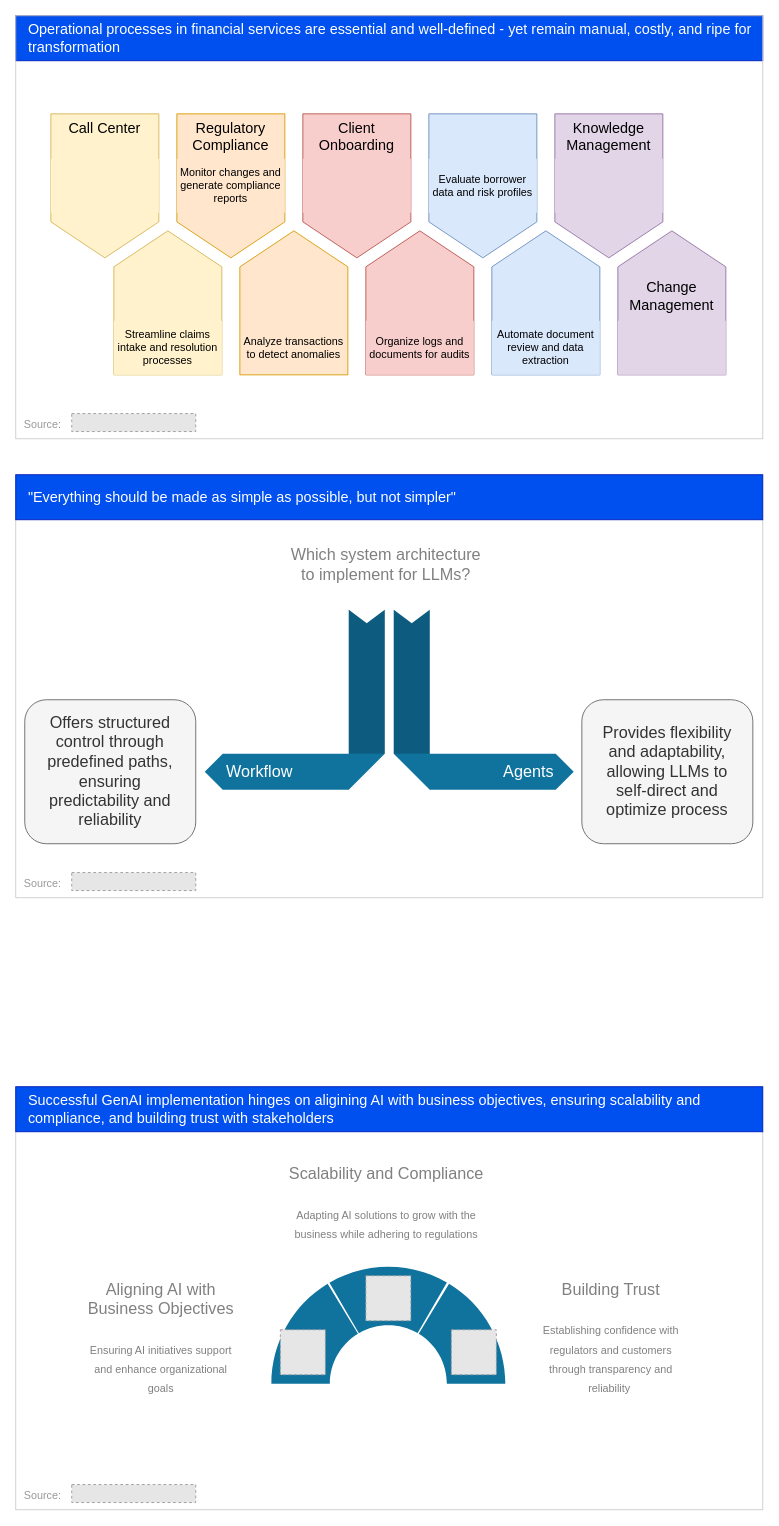
The diagram is 779 pixels wide and 1526 high, and some of its shapes have lost their labels. Grey dashed boxes stand in for pictures. The shapes that lost their labels are listed below. From the top down, each one's box as (x1, y1, x2, y2) in pixels, then its label:
(50, 158, 158, 212): Deploy virtual assistants for customer inquiries
(302, 158, 410, 212): Verify identities and screen data for KYC automatically
(428, 113, 537, 258): Underwriting
(554, 158, 662, 212): Retrieve internal knowledge through queries
(113, 230, 222, 375): Claims Processing
(239, 230, 348, 375): Fraud Detection
(365, 230, 474, 375): Audit Preparation
(491, 230, 600, 375): Document Processing
(617, 320, 725, 374): Draft and distribute updates for internal change
